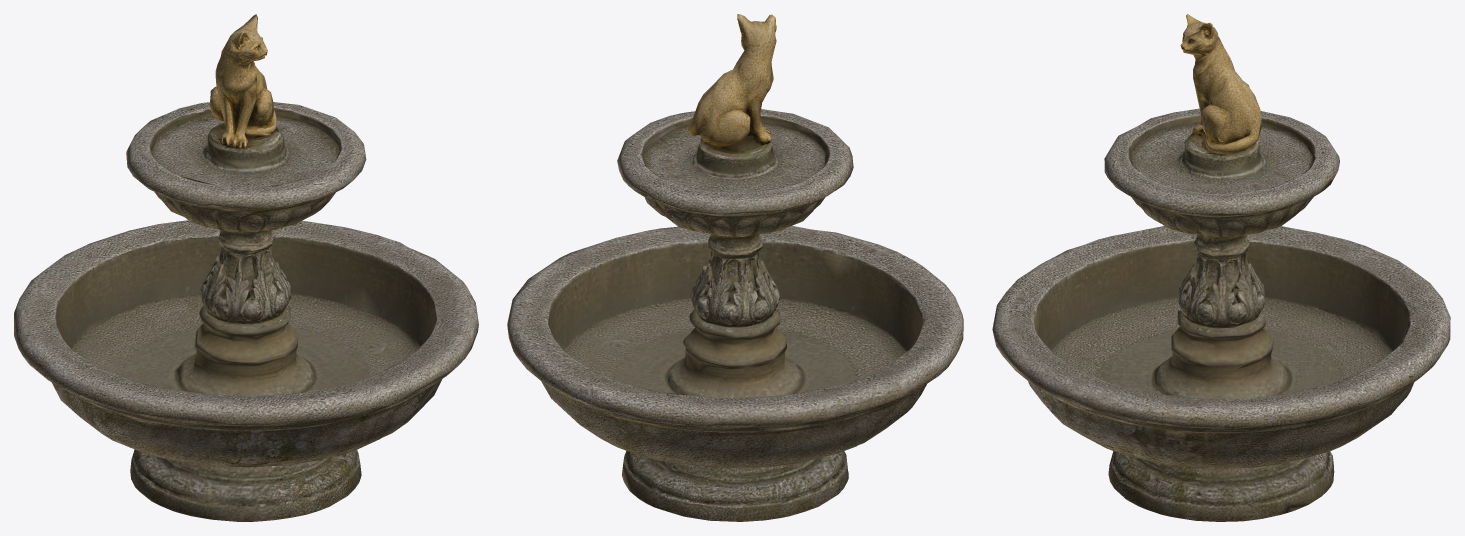
Rendered from fountain.glb.
The picture shows the model from 3 angles, left to right: view 1: azimuth 30°, elevation 25°; view 2: azimuth 150°, elevation 25°; view 3: azimuth 270°, elevation 25°; orthographic projection. The views are drawn at different scales.
Bounding box in the file's own units: 2.92 × 3.2 × 2.92.
Materials: 1 (1 with a texture image).
